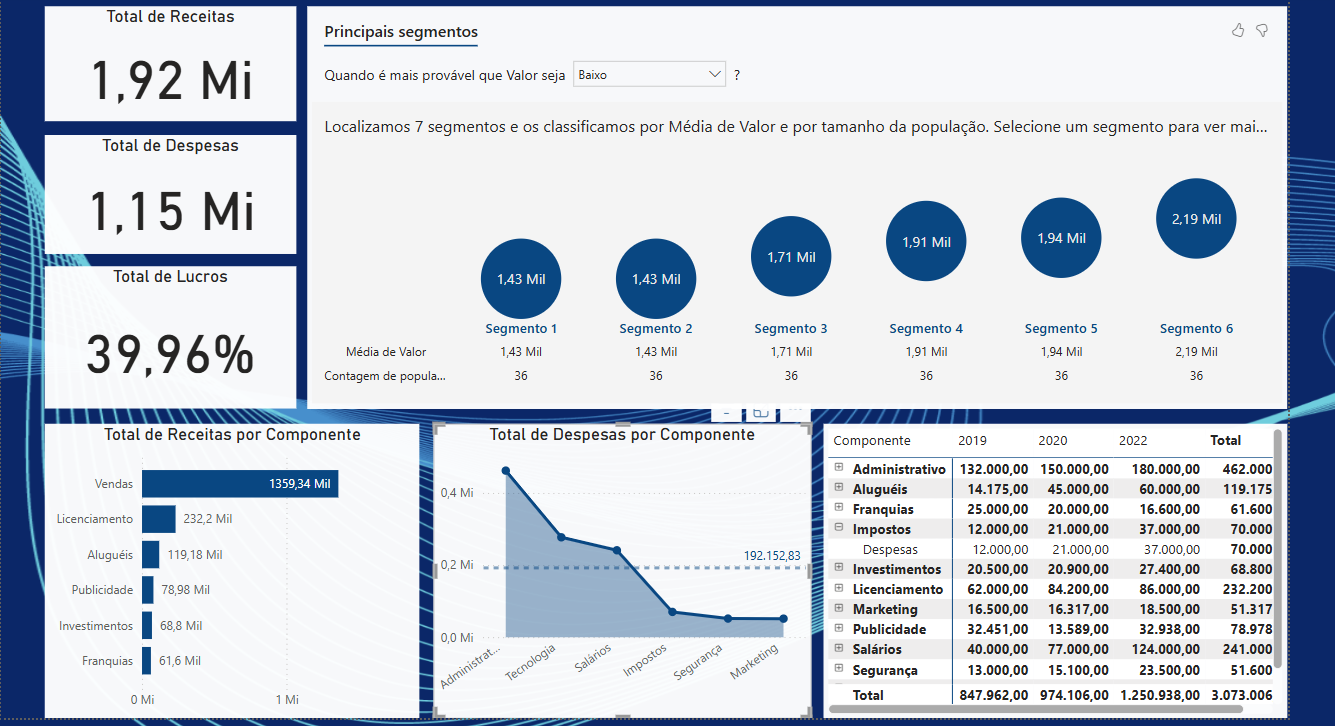

The page's visual inventory and layout, read from the dashboard file:
{"tool":"powerbi","page":{"name":"Página 1","canvas":[1280,720],"ordinal":0},"visuals":[{"type":"card","title":"Total de Receitas","fields":{"Values":["Medidasindicadoresfinanceiros.TotalReceitas"]},"box":[43.5,11.2,250,114.4],"z":0},{"type":"card","title":"Total de Despesas","fields":{"Values":["Medidasindicadoresfinanceiros.TotalDespesas"]},"box":[43.5,139.3,250,118.2],"z":1000},{"type":"card","title":"Total de Lucros","fields":{"Values":["Medidasindicadoresfinanceiros.MargemLucro"]},"box":[43.5,269.9,250,141.8],"z":2000},{"type":"clusteredBarChart","title":"Total de Receitas por Componente","fields":{"Category":["DadosFinanceiros.Componente"],"Y":["Medidasindicadoresfinanceiros.TotalReceitas"]},"box":[43.5,426.7,373.2,293.6],"z":3000},{"type":"areaChart","title":"Total de Despesas por Componente","fields":{"Category":["DadosFinanceiros.Componente"],"Y":["Medidasindicadoresfinanceiros.TotalDespesas"]},"box":[430.4,426.7,375.7,293.6],"z":4000},{"type":"pivotTable","fields":{"Rows":["DadosFinanceiros.Componente","DadosFinanceiros.Tipo"],"Values":["Sum(DadosFinanceiros.Valor)"],"Columns":["DadosFinanceiros.Data.Variation.Hierarquia de datas.Ano"]},"box":[818.5,426.7,461.5,293.6],"z":5000},{"type":"keyDriversVisual","fields":{"Target":["DadosFinanceiros.Valor"],"ExplainBy":["DadosFinanceiros.Tipo","DadosFinanceiros.Componente"]},"box":[304.8,11.2,975.3,400.6],"z":5001}]}

Visuals, with their boxes in screenshot pixels (x1, y1, x2, y2):
"Total de Receitas" card: 47/8/296/122
"Total de Despesas" card: 47/135/296/253
"Total de Lucros" card: 47/265/296/406
"Total de Receitas por Componente" clusteredBarChart: 47/421/418/713
"Total de Despesas por Componente" areaChart: 432/421/806/713
pivotTable - DadosFinanceiros.Componente x DadosFinanceiros.Tipo: 818/421/1277/713
keyDriversVisual - DadosFinanceiros.Valor x DadosFinanceiros.Tipo: 307/8/1277/406
